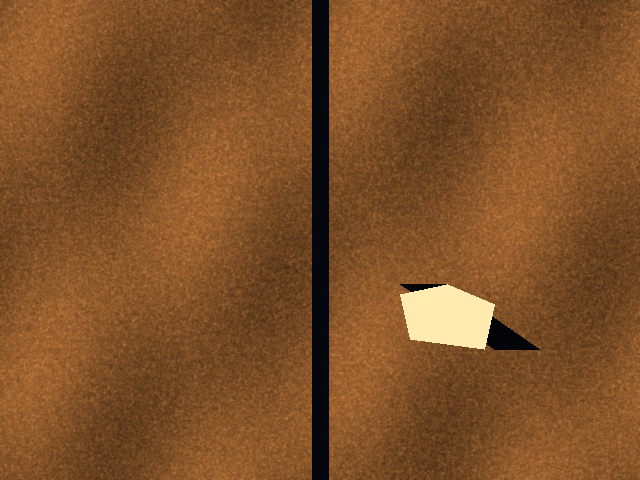Unknown Debris: (400, 284, 494, 349)
